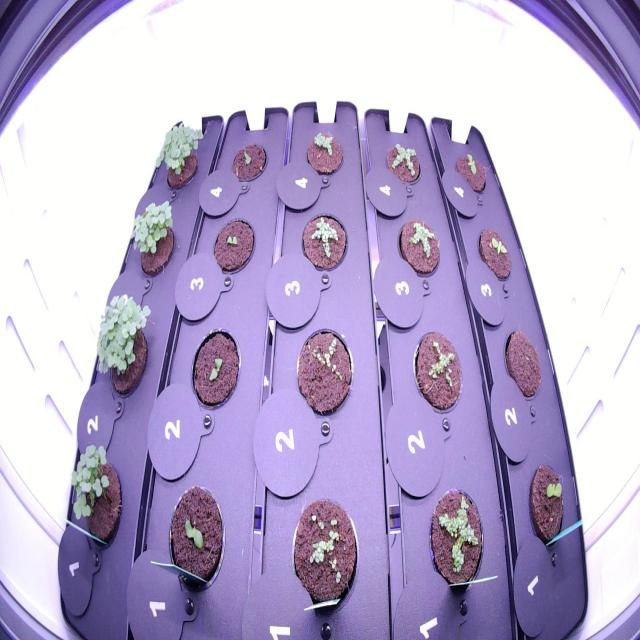germination: (285, 488, 365, 623), (161, 474, 229, 602), (65, 438, 126, 560), (426, 482, 488, 602), (90, 288, 156, 400), (290, 320, 358, 424), (182, 320, 247, 422), (409, 324, 466, 424), (523, 452, 572, 558), (149, 112, 208, 200), (126, 189, 180, 282), (295, 202, 352, 282), (393, 207, 445, 289), (209, 209, 258, 284), (472, 218, 516, 288), (378, 134, 427, 195), (301, 126, 347, 186), (449, 144, 492, 202), (227, 138, 273, 192)
pod: (497, 319, 547, 411)
